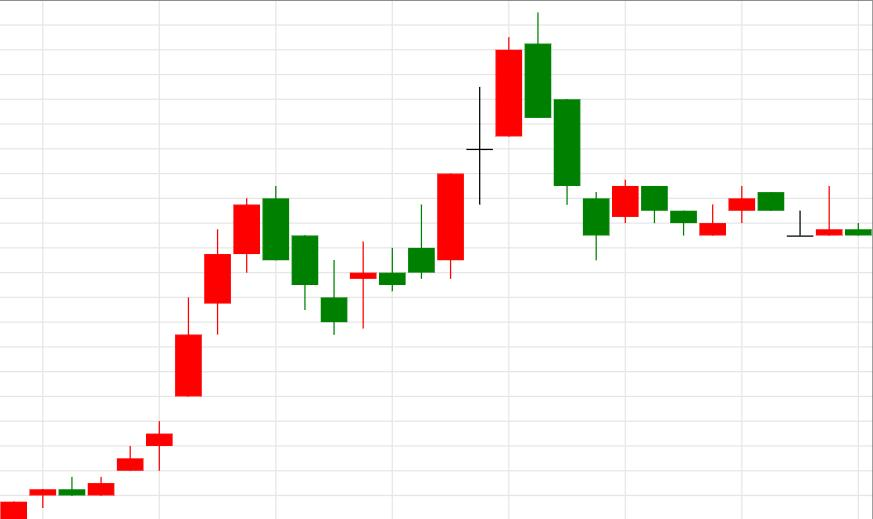three_black_crows_fall: (321, 12, 609, 335)
